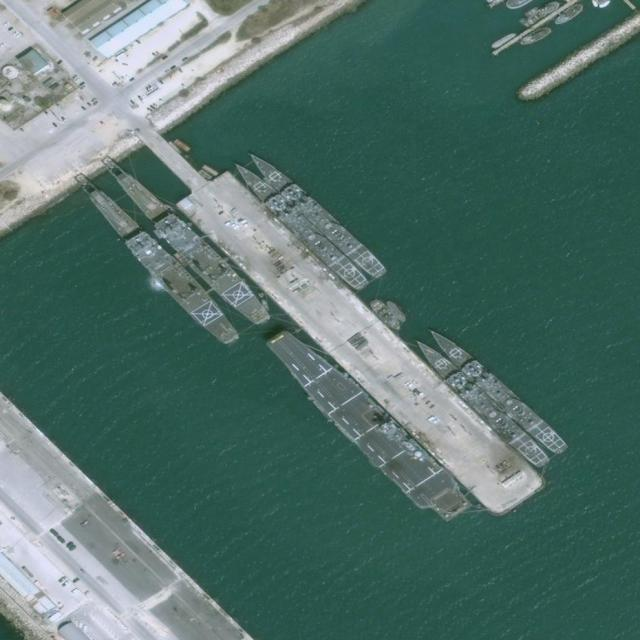Aircraft Carrier: (255, 322, 478, 535)
Dock: (170, 157, 550, 529)
Frigate: (426, 321, 569, 458), (231, 157, 369, 295), (246, 147, 387, 282), (412, 334, 550, 471)
Landing: (102, 153, 275, 337), (81, 182, 244, 354)
Other Warship: (367, 297, 403, 332), (384, 299, 409, 323)
